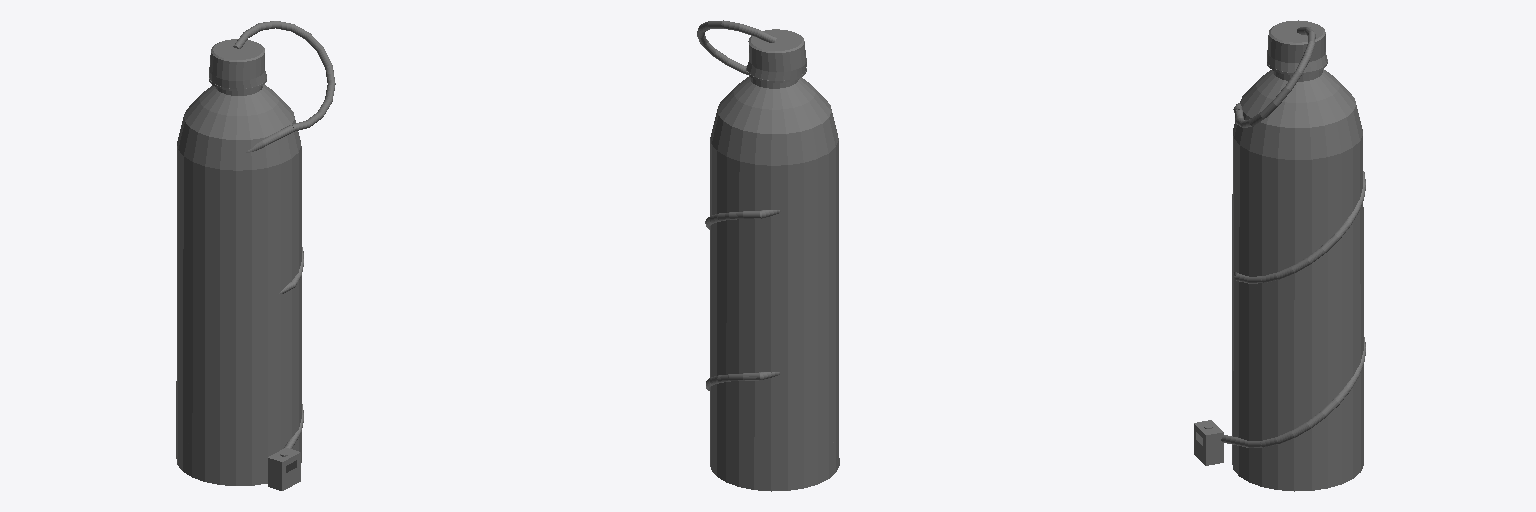
URDF robot description (object):
<?xml version="1.0"?>
<robot name="object">
  <link name="object">
    <visual>
      <origin xyz="0 0 0"/>
      <geometry>
        <mesh
          filename="../../mesh/oakink_virtual/cylinder_bottle_s151.stl" />
      </geometry>
      <material name="mat">
        <color rgba="0.5 0.5 0.5 1"/>
      </material>
    </visual>

    <collision>
      <origin xyz="0 0 0"/>
      <geometry>
        <mesh
          filename="../../mesh/oakink_virtual/cylinder_bottle_s151.stl" />
      </geometry>
    </collision>
  </link>
</robot>

--- Render facts (derived) ---
The picture shows the robot from 3 angles, left to right: view 1: azimuth 30°, elevation 25°; view 2: azimuth 150°, elevation 25°; view 3: azimuth 270°, elevation 25°; orthographic projection.
Model object with 1 links and 0 joints (none), rooted at object, posed all joints at 0.
Visible links, largest first — view 1: object; view 2: object; view 3: object.
Boxes of the visible links, x1,y1,x2,y2 form: object: [176, 21, 335, 490]; object: [697, 20, 839, 491]; object: [1194, 20, 1365, 491].
Bounding box of the posed robot: 0.0506 × 0.0527 × 0.1504 m (x, y, z).
Meshes: 1 distinct files referenced, 1 mesh visuals loaded (1 binary STL).